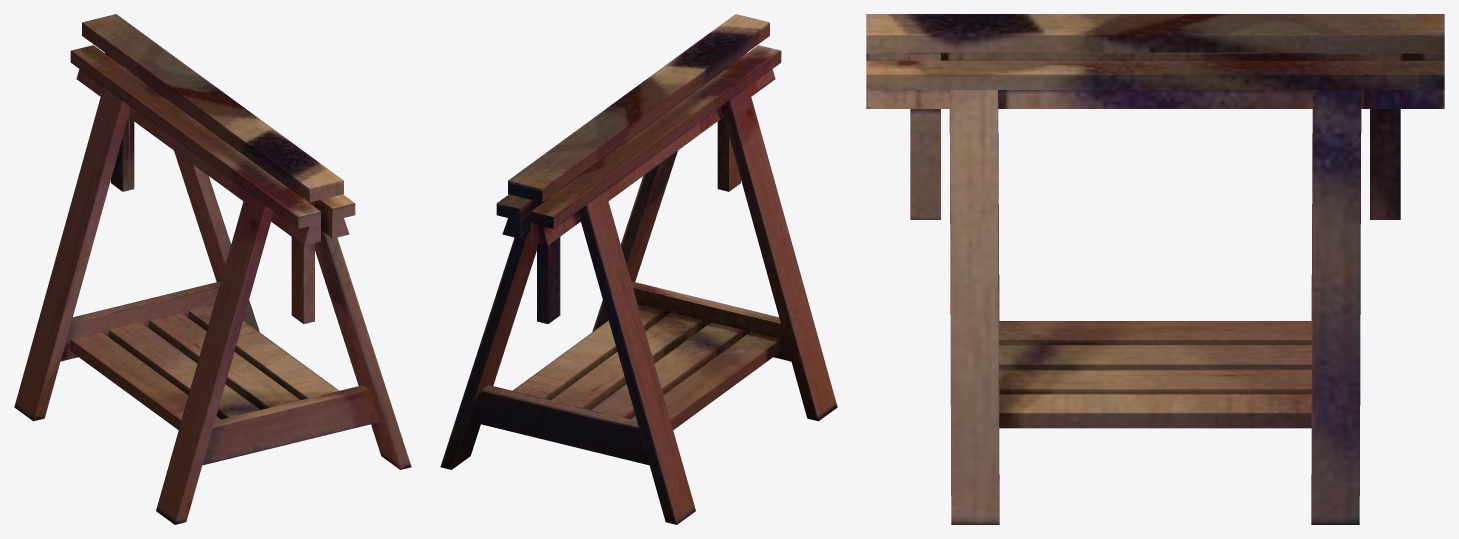
File: trestle_left.glb
3 renders of one model, left to right at view 1: azimuth 30°, elevation 25°; view 2: azimuth 150°, elevation 25°; view 3: azimuth 270°, elevation 25°, orthographic. The views are drawn at different scales.
Parts seen in each view (by area): view 1: trestle_left; view 2: trestle_left; view 3: trestle_left.
Boxes of the visible parts, box(x1,y1,x2,y2) form: trestle_left: box(14, 14, 411, 524); trestle_left: box(440, 14, 837, 524); trestle_left: box(866, 14, 1444, 524).
Bounding box in the file's own units: 3.84 × 5.2 × 6.39.
1 material, 1 textured.
